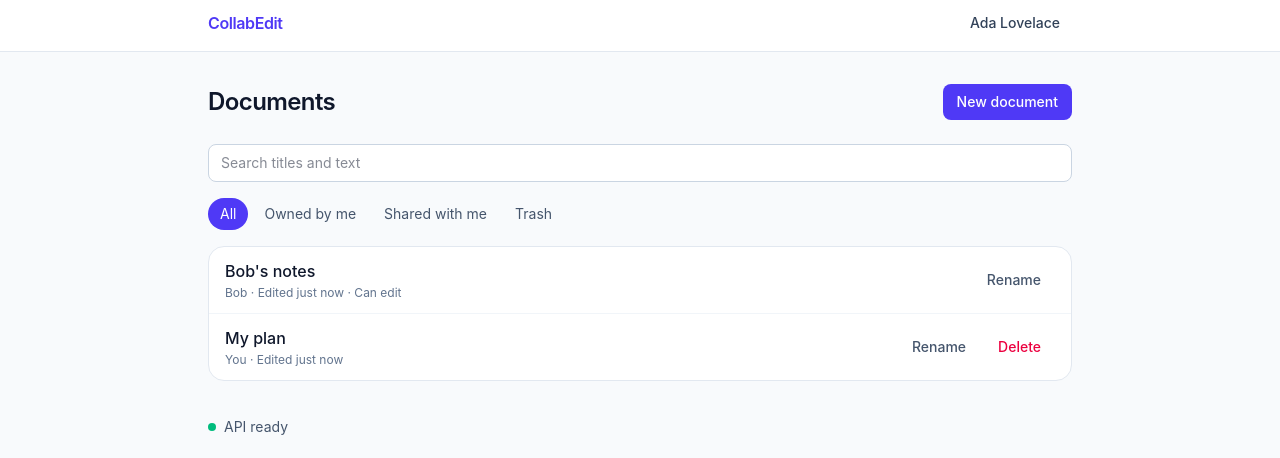
Test case: dashboard › cancels a rename with Escape
Expected: the link "My plan" is shown, [225,328,286,348]
Click the button with aria-label "Rename My plan" at [939, 347], box [898,329,980,365]
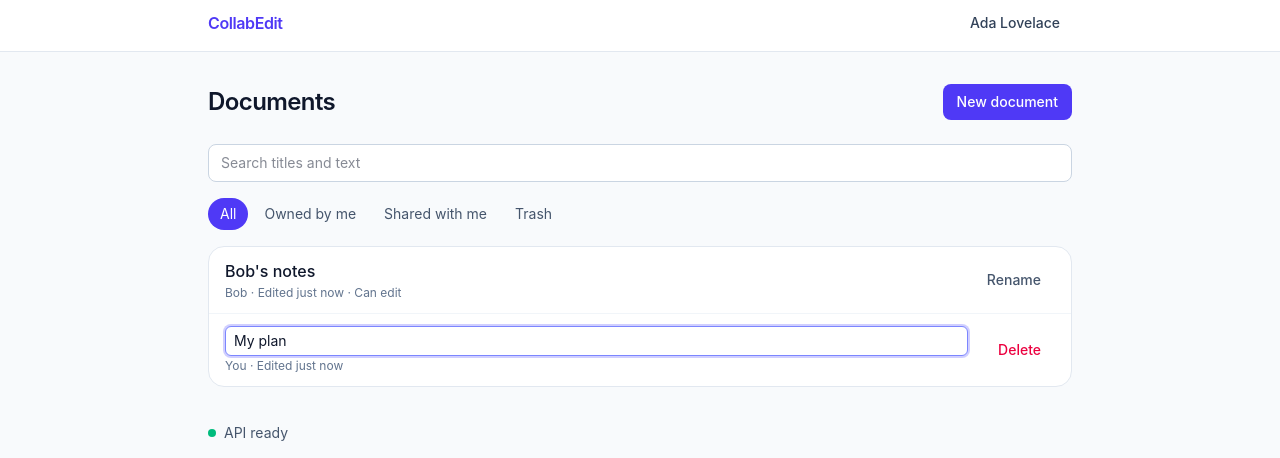
Type " changed" into the field named "Document title" at [597, 341], box [225,326,968,356]
Then press Escape
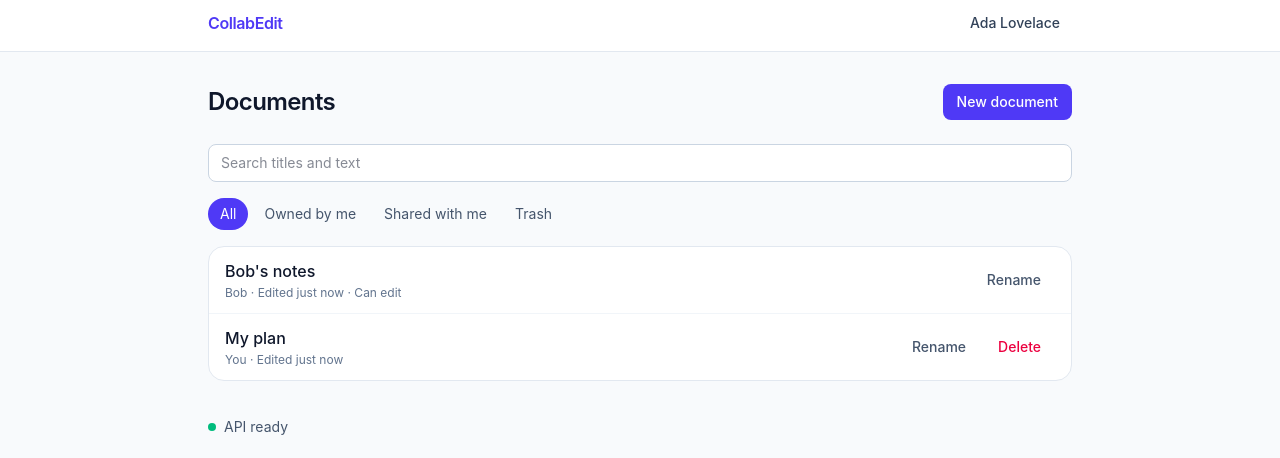
Result: the link "My plan" is shown at [225,328,286,348]
